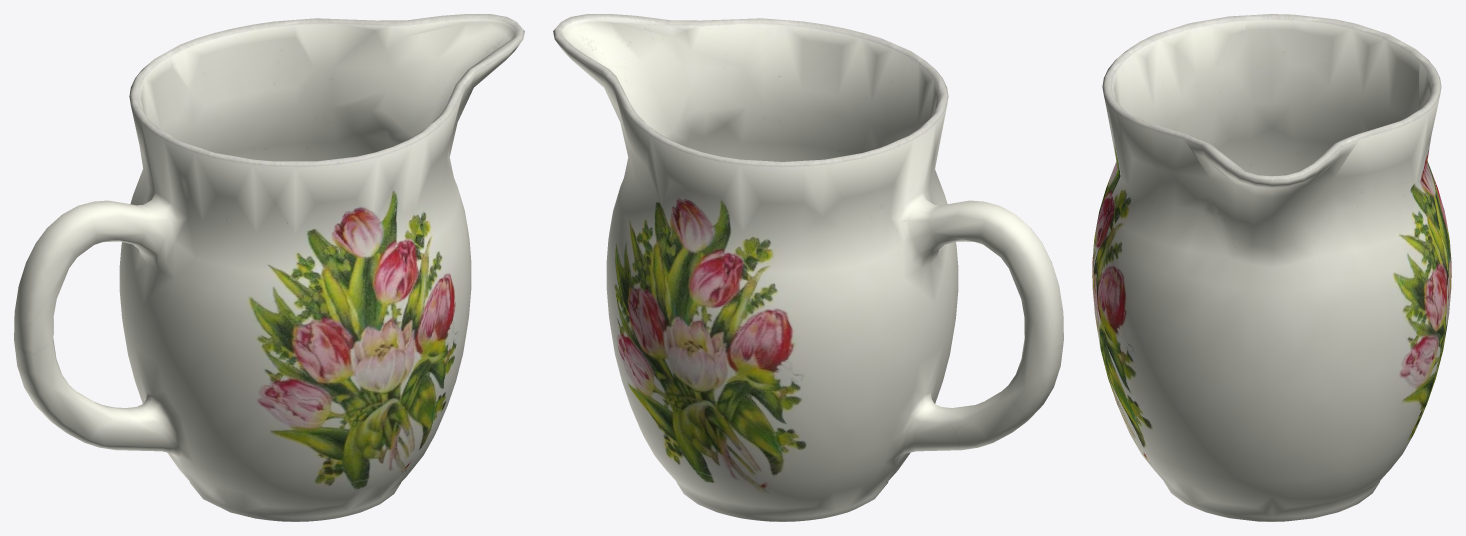
The model's file is jug.glb.
3 renders of one model, left to right at view 1: azimuth 30°, elevation 25°; view 2: azimuth 150°, elevation 25°; view 3: azimuth 270°, elevation 25°, orthographic. The views are drawn at different scales.
Visible parts, largest first — view 1: jug_01; view 2: jug_01; view 3: jug_01.
Part boxes in pixels (x1,y1,x2,y2): jug_01: (14,14,524,521); jug_01: (553,14,1063,521); jug_01: (1092,14,1451,521).
Size of the model in its own units: 0.275 by 0.2113 by 0.1675.
Materials: 1 (1 with a texture image).
